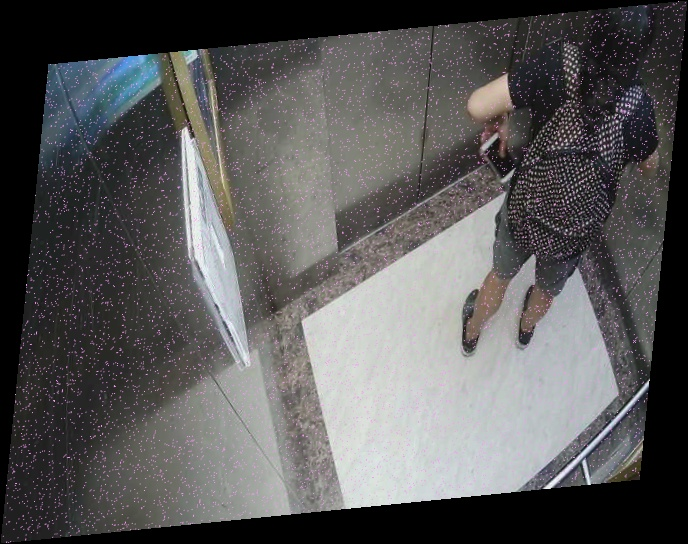bag: (503, 83, 628, 270)
person: (459, 6, 657, 377)
